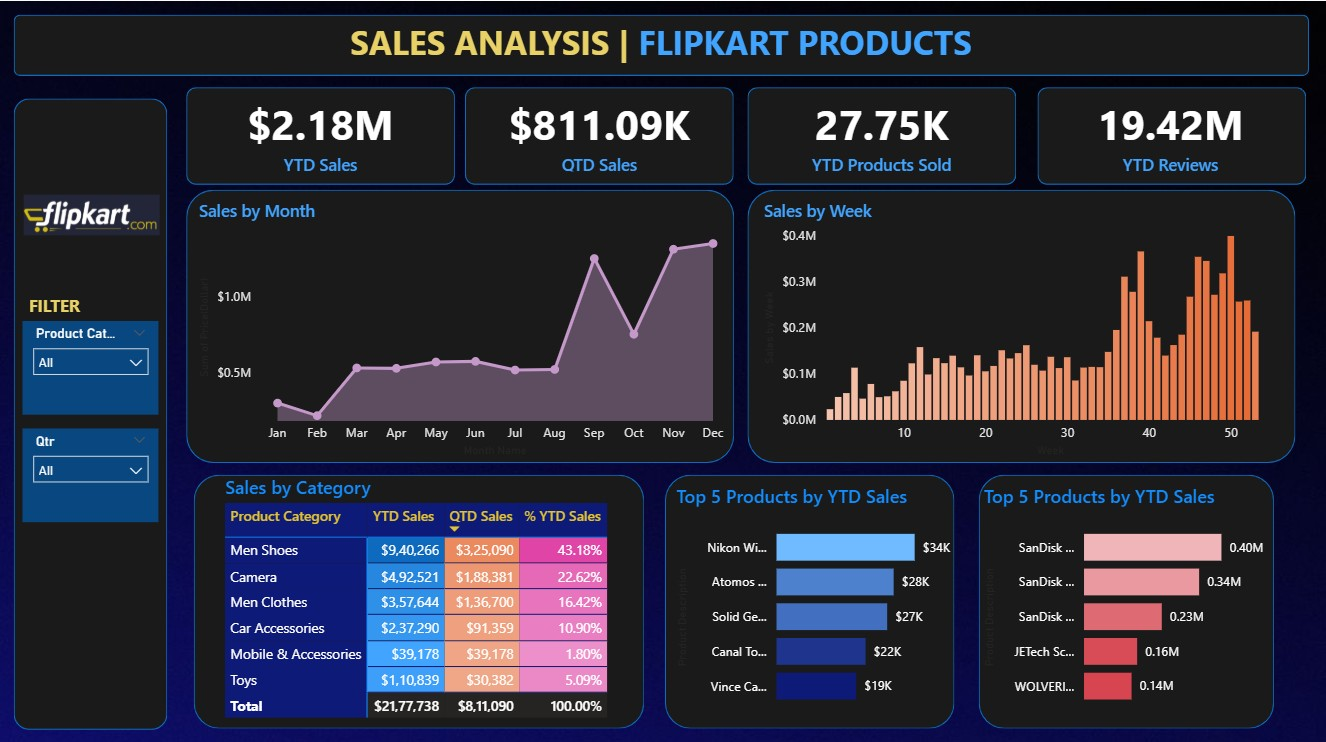

This screenshot's page, from the dashboard's own definition file:
{"tool":"powerbi","page":{"name":"Page 1","canvas":[1280,720],"ordinal":0},"visuals":[{"type":"shape","box":[179.6,82.7,259.4,94.1],"z":0,"group":"g1"},{"type":"shape","box":[13.7,13.7,1250.1,59],"z":0},{"type":"shape","box":[449,82.7,259.4,94.1],"z":1000,"group":"g1"},{"type":"textbox","box":[333,13.3,640.6,59.1],"z":1000},{"type":"card","fields":{"Values":["Amazon_Data.YTD Sales"]},"box":[186.7,89.1,245.2,80.1],"z":2000,"group":"g1"},{"type":"shape","box":[13.7,94.7,148.2,609.3],"z":2000},{"type":"shape","box":[721.2,82.7,259.4,94.1],"z":3000,"group":"g1"},{"type":"group","id":"g1","title":"Group 1","box":[179.6,82.7,1080.4,94.1],"z":3000},{"type":"shape","box":[1000.6,82.7,259.4,94.1],"z":4000,"group":"g1"},{"type":"shape","box":[179.6,182.4,528.8,263.7],"z":4000},{"type":"card","fields":{"Values":["Amazon_Data.QTD Sales"]},"box":[456.1,89.1,245.2,80.1],"z":5000,"group":"g1"},{"type":"areaChart","title":"Sales by Month","fields":{"Category":["Date Table.Month Name"],"Y":["Sum(Amazon_Data.Price(Dollar))"]},"box":[186.7,191,521.7,253.7],"z":5000},{"type":"card","fields":{"Values":["Amazon_Data.YTD Products Sold"]},"box":[728.4,89.1,245.2,80.1],"z":6000,"group":"g1"},{"type":"shape","box":[721.2,182.4,528.8,263.7],"z":6000},{"type":"card","fields":{"Values":["Amazon_Data.YTD Reviews"]},"box":[1007.8,89.1,245.2,80.1],"z":7000,"group":"g1"},{"type":"columnChart","title":"Sales by Week","fields":{"Category":["Date Table.Week"],"Y":["Sum(Amazon_Data.Price(Dollar))"]},"box":[732.7,191,507.4,253.7],"z":7000},{"type":"shape","box":[186.7,457.6,434.7,245.2],"z":8000},{"type":"pivotTable","title":"Sales by Category","fields":{"Rows":["Amazon_Data.Product Category"],"Values":["Amazon_Data.YTD Sales1","Amazon_Data.QTD Sales","Amazon_Data.YTD Sales"]},"box":[212.4,457.6,400.5,245.2],"z":9000},{"type":"shape","box":[641.4,457.6,279.4,245.2],"z":10000},{"type":"shape","box":[945,457.6,285.1,245.2],"z":11000},{"type":"clusteredBarChart","title":"Top 5 Products by YTD Sales","fields":{"Category":["Amazon_Data.Product Description"],"Y":["Amazon_Data.YTD Sales"]},"box":[647.9,465.7,284.7,228],"z":12000},{"type":"clusteredBarChart","title":"Top 5 Products by YTD Sales","fields":{"Category":["Amazon_Data.Product Description"],"Y":["Amazon_Data.YTD Reviews"]},"box":[944.6,465.7,284.7,228],"z":13000},{"type":"slicer","fields":{"Values":["Amazon_Data.Product Category"]},"box":[21.7,308.8,131.5,90.5],"z":14000},{"type":"slicer","fields":{"Values":["Date Table.Qtr"]},"box":[21.7,412.6,131.5,90.5],"z":15000},{"type":"textbox","box":[22.9,277.5,98.9,31.4],"z":17000},{"type":"image","box":[18.1,177.3,141.2,59.1],"z":17001}]}

Visuals, with their boxes in screenshot pixels (x1, y1, x2, y2), scaled from the page's 1280x720 canvas onto the 1326x742 screenshot:
shape: crop(186, 85, 455, 182)
shape: crop(14, 14, 1309, 75)
shape: crop(465, 85, 734, 182)
textbox: crop(345, 14, 1009, 75)
card - Amazon_Data.YTD Sales: crop(193, 92, 447, 174)
shape: crop(14, 98, 168, 726)
shape: crop(747, 85, 1016, 182)
"Group 1" group: crop(186, 85, 1305, 182)
shape: crop(1037, 85, 1305, 182)
shape: crop(186, 188, 734, 460)
card - Amazon_Data.QTD Sales: crop(472, 92, 727, 174)
"Sales by Month" areaChart: crop(193, 197, 734, 458)
card - Amazon_Data.YTD Products Sold: crop(755, 92, 1009, 174)
shape: crop(747, 188, 1295, 460)
card - Amazon_Data.YTD Reviews: crop(1044, 92, 1298, 174)
"Sales by Week" columnChart: crop(759, 197, 1285, 458)
shape: crop(193, 472, 644, 724)
"Sales by Category" pivotTable: crop(220, 472, 635, 724)
shape: crop(664, 472, 954, 724)
shape: crop(979, 472, 1274, 724)
"Top 5 Products by YTD Sales" clusteredBarChart: crop(671, 480, 966, 715)
"Top 5 Products by YTD Sales" clusteredBarChart: crop(979, 480, 1273, 715)
slicer - Amazon_Data.Product Category: crop(22, 318, 159, 412)
slicer - Date Table.Qtr: crop(22, 425, 159, 518)
textbox: crop(24, 286, 126, 318)
image: crop(19, 183, 165, 244)
